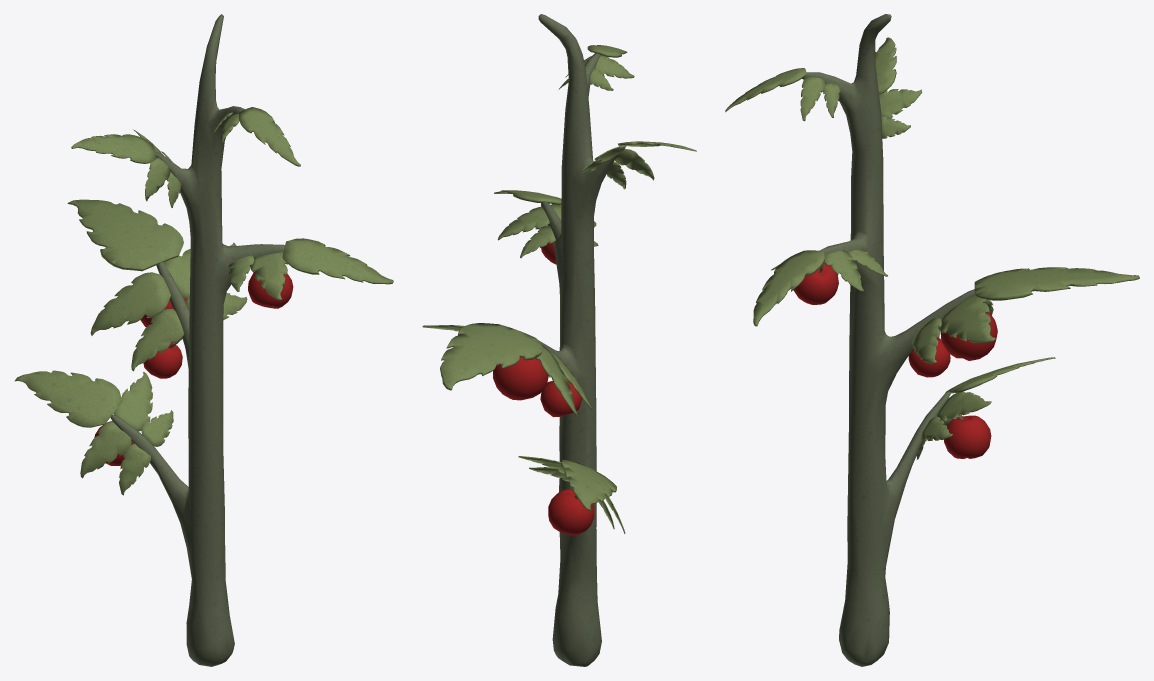
The model's file is pomidory4.fbx.
3 renders of one model, left to right at view 1: azimuth 30°, elevation 25°; view 2: azimuth 150°, elevation 25°; view 3: azimuth 270°, elevation 25°, orthographic. The views are drawn at different scales.
Visible parts, largest first — view 1: Cube3_1; view 2: Cube3_1; view 3: Cube3_1.
Boxes of the visible parts, x1,y1,x2,y2 form: Cube3_1: [14, 14, 393, 666]; Cube3_1: [422, 14, 696, 666]; Cube3_1: [725, 14, 1139, 666].
Size of the model in its own units: 185 by 431 by 246.
4 materials, 4 textured.
